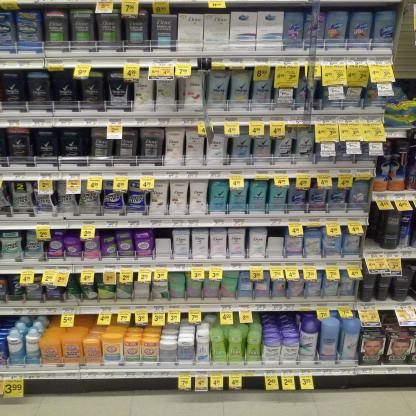Void: (371, 204, 382, 244)
